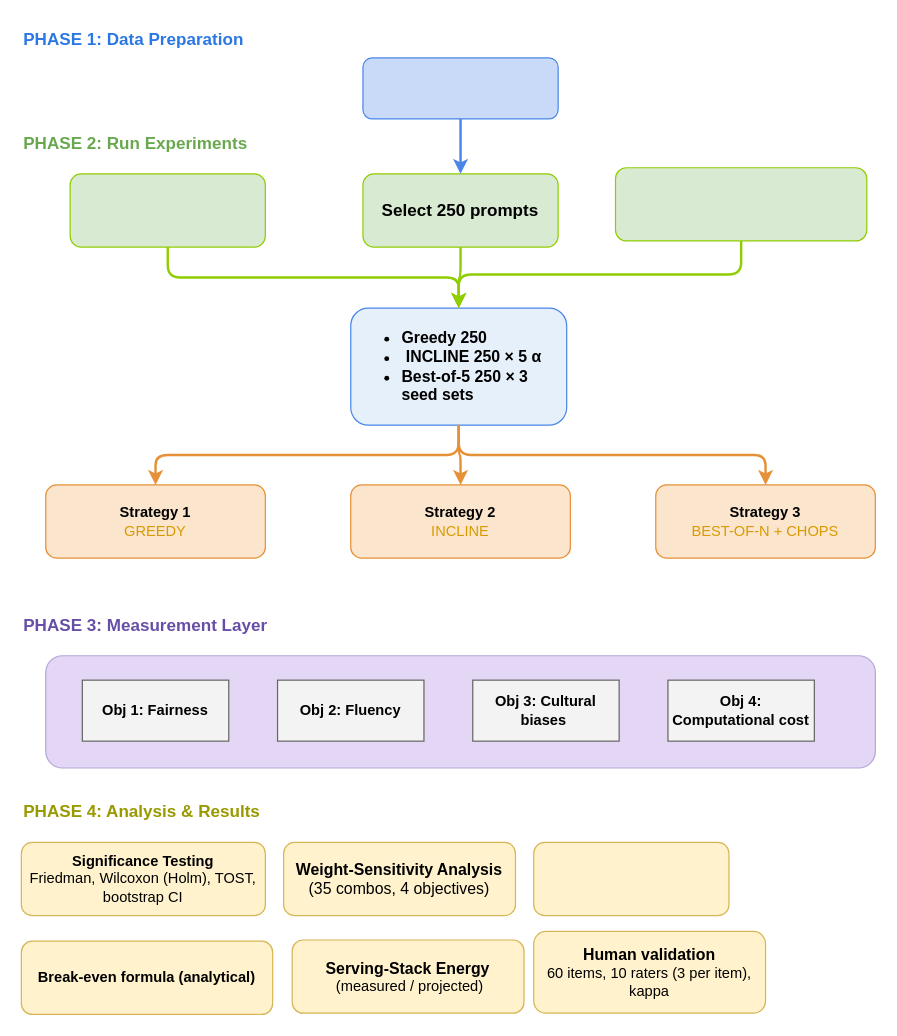
Some shapes in this 897 by 1036 pixel diagram are drawn without their labels. The shapes that lost their labels are listed below. From the top down, each one's centre as x and y in pixels, then its label:
At [460,88]: "BanStereoSet".
At [167,210]: "Llama-3.2-3B-Instruct".
At [740,204]: "NVML power meter + idle baseline ( CodeCarbon: serving-stack benchmark only )".
At [631,878]: "Cross-model Ablation Qwen / Phi-3 / Gemma (greedy)".
